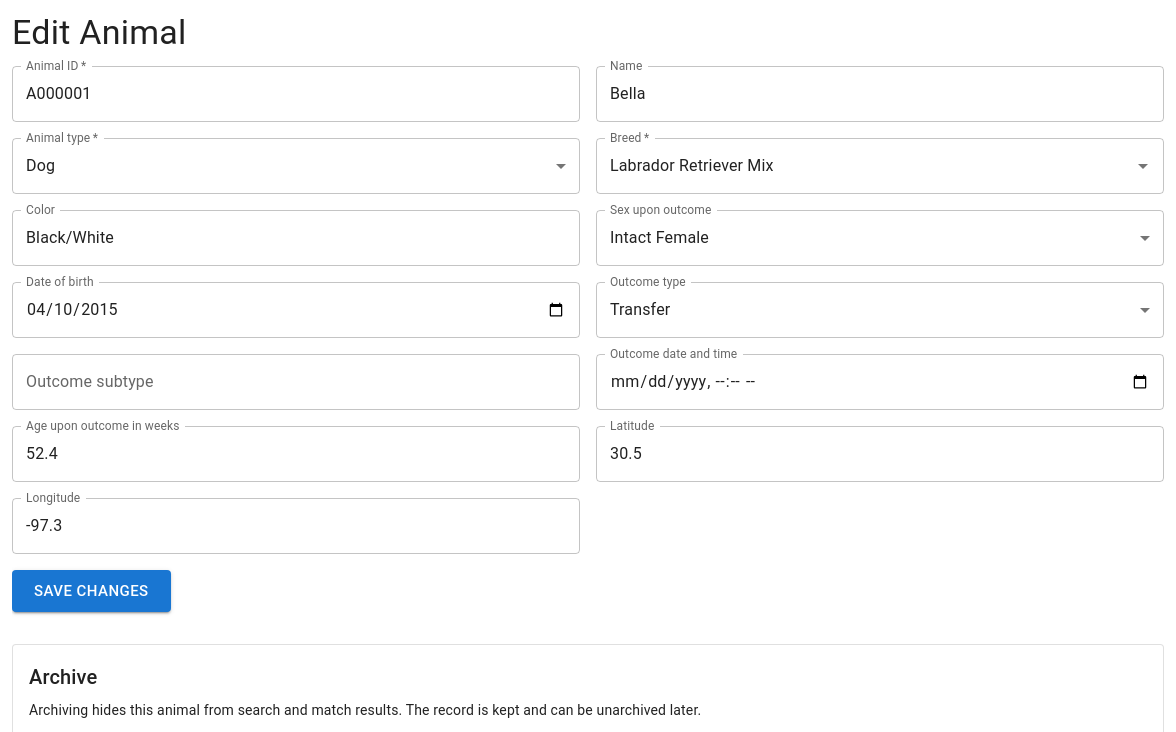
it: EditAnimalPage › saves only the changed fields
Replace the text in the field labelled "Name" with "Shadow" at point(880, 94), box [596, 66, 1164, 122]
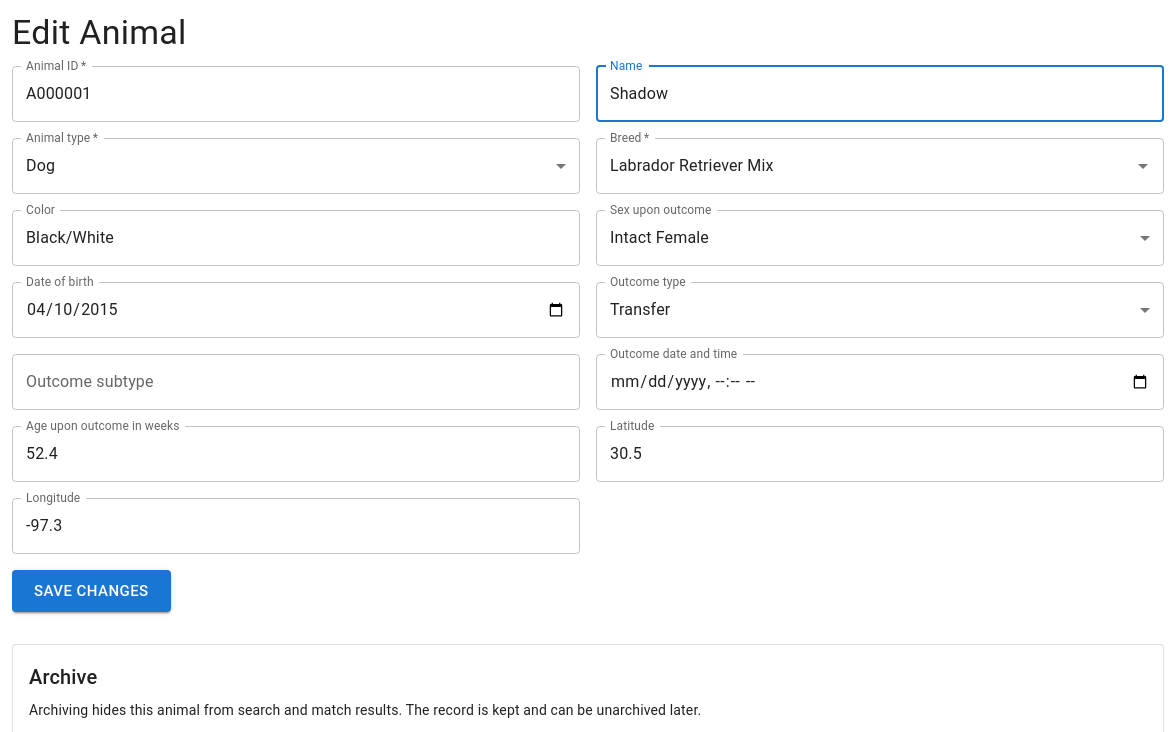
Click the button "Save changes" at point(91, 591), box [12, 570, 170, 612]
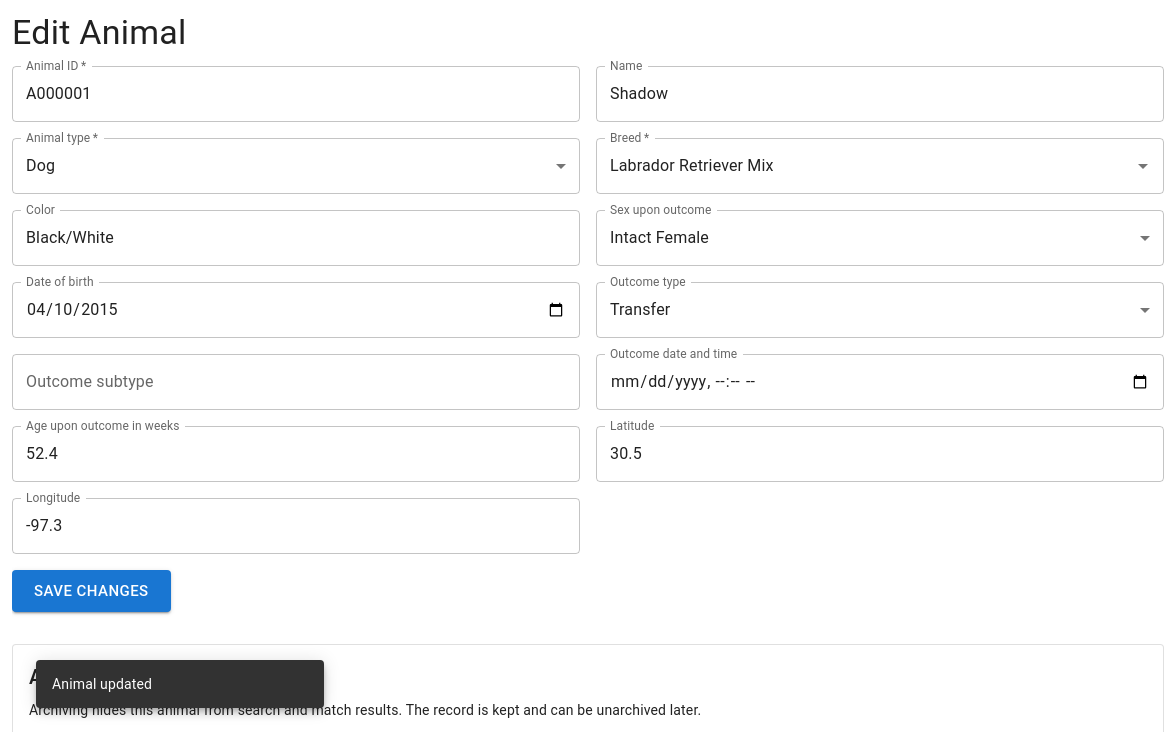
Expected: the text "Animal updated" is shown, [52, 676, 152, 692]
